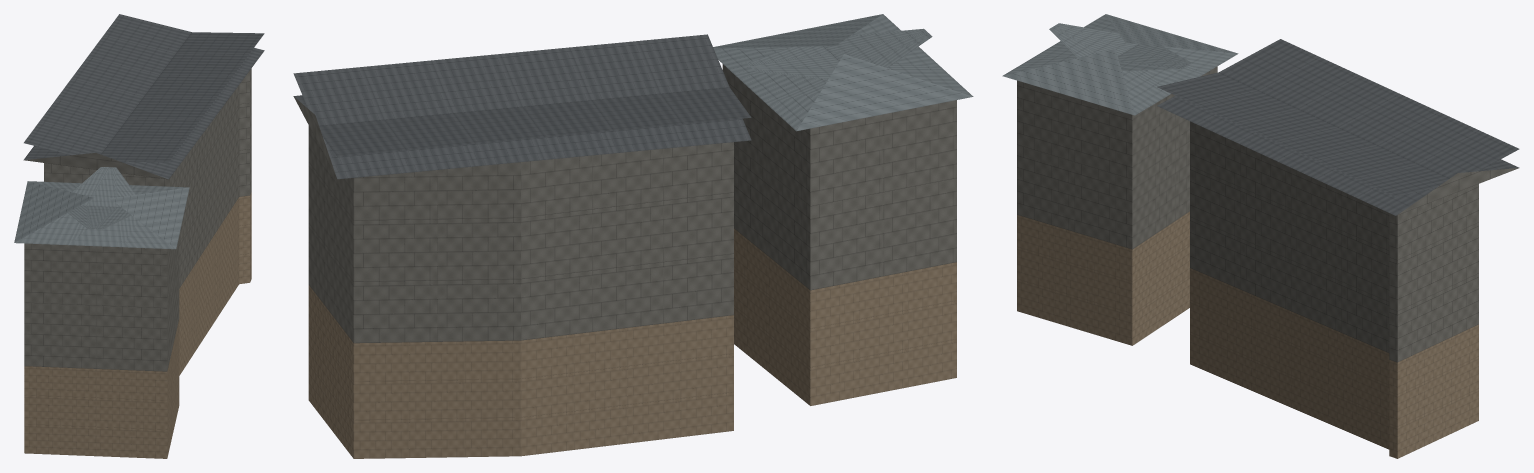
File: bld_c22_-49_539.gltf
3 views of the same model, side by side, from view 1: azimuth 30°, elevation 25°; view 2: azimuth 150°, elevation 25°; view 3: azimuth 270°, elevation 25° (orthographic). The views are drawn at different scales.
Visible parts, largest first — view 1: bld_c22_-49_539; view 2: bld_c22_-49_539; view 3: bld_c22_-49_539.
Boxes of the visible parts, x1=… form: bld_c22_-49_539: x1=14, y1=14, x2=264, y2=458; bld_c22_-49_539: x1=293, y1=14, x2=973, y2=458; bld_c22_-49_539: x1=1002, y1=14, x2=1519, y2=458.
Size of the model in its own units: 23.34 by 14.2 by 24.81.
5 materials, 5 textured.
